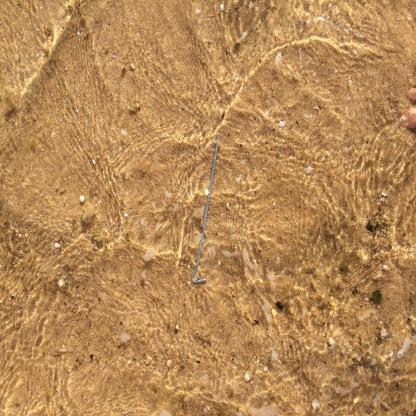metal: (192, 133, 222, 286)
